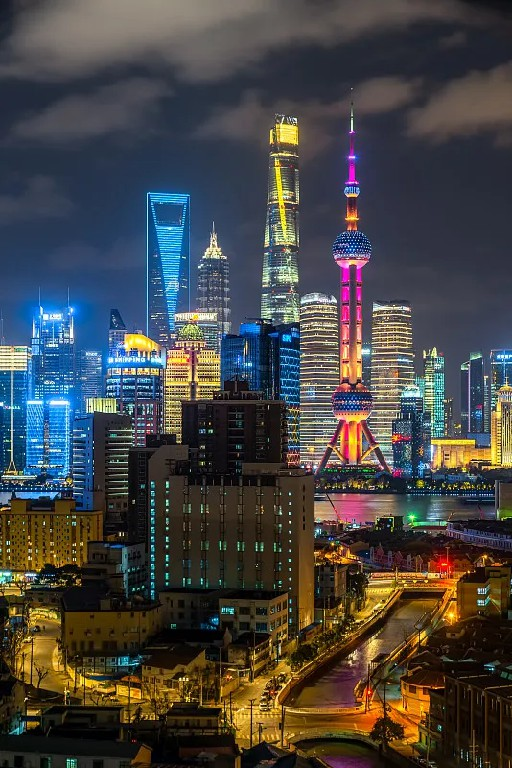Oriental: (314, 87, 389, 471)
